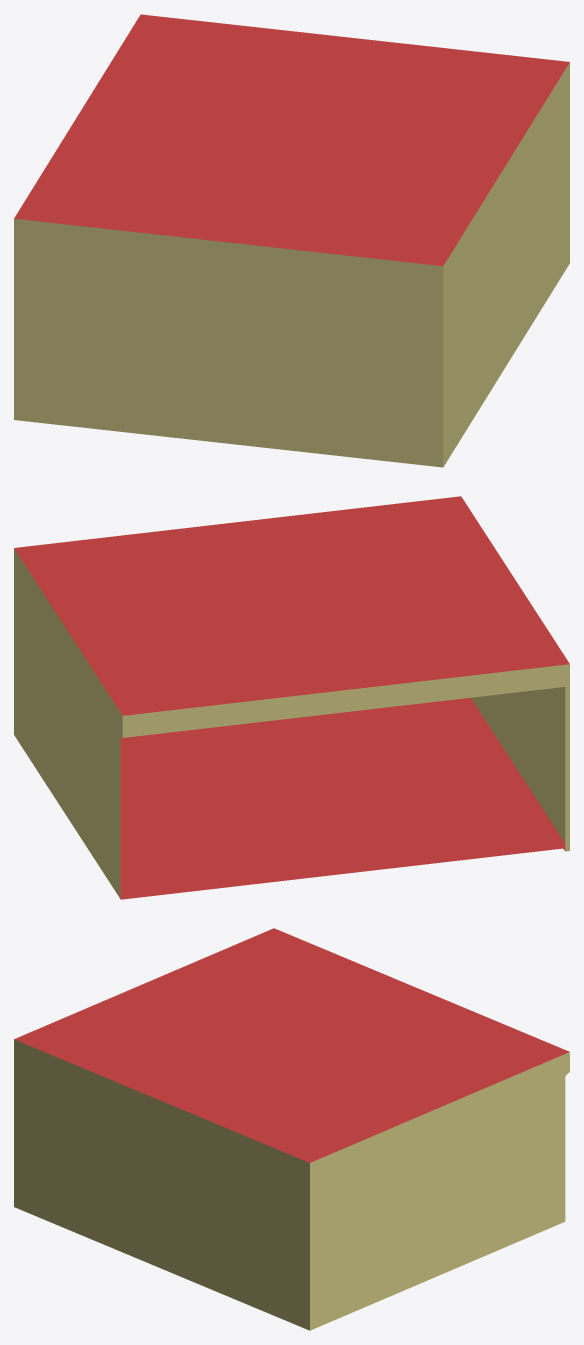
3 views of the same model, one above another, from view 1: azimuth 30°, elevation 25°; view 2: azimuth 150°, elevation 25°; view 3: azimuth 270°, elevation 25° (orthographic). The views are drawn at different scales.
Bounding box in the file's own units: 31.09 × 31.11 × 10.36.
